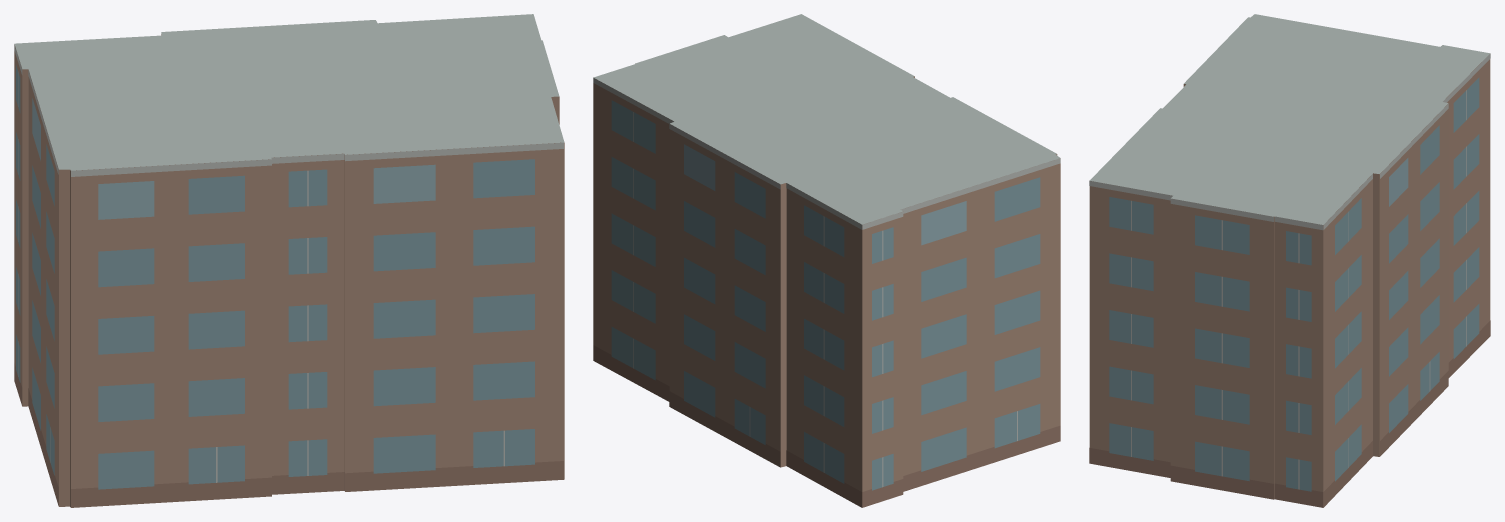
Rendered from survey-upis-32670887.glb.
3 views of the same model, side by side, from view 1: azimuth 30°, elevation 25°; view 2: azimuth 150°, elevation 25°; view 3: azimuth 270°, elevation 25° (orthographic). The views are drawn at different scales.
Parts seen in each view (by area): view 1: survey-upis-32670887.tmp; view 2: survey-upis-32670887.tmp; view 3: survey-upis-32670887.tmp.
Boxes of the visible parts, x1,y1,x2,y2 form: survey-upis-32670887.tmp: (14,14,564,507); survey-upis-32670887.tmp: (593,14,1060,507); survey-upis-32670887.tmp: (1089,14,1490,507).
Bounding box in the file's own units: 20.89 × 13.05 × 16.77.
